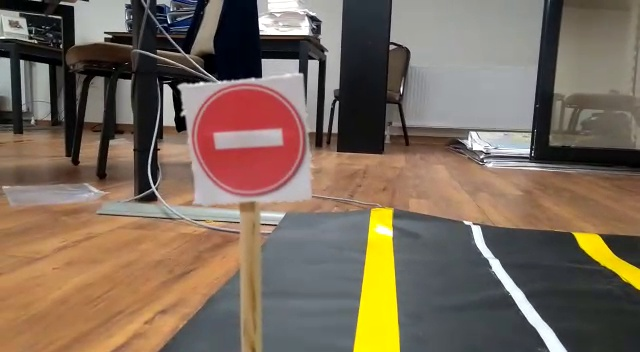girisi_olmayan_yol: (179, 84, 311, 196)
